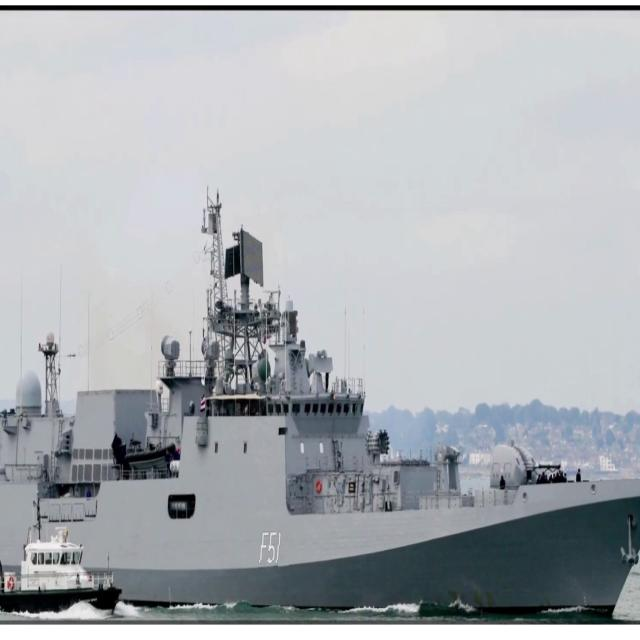OCR: (258, 522, 292, 574)
